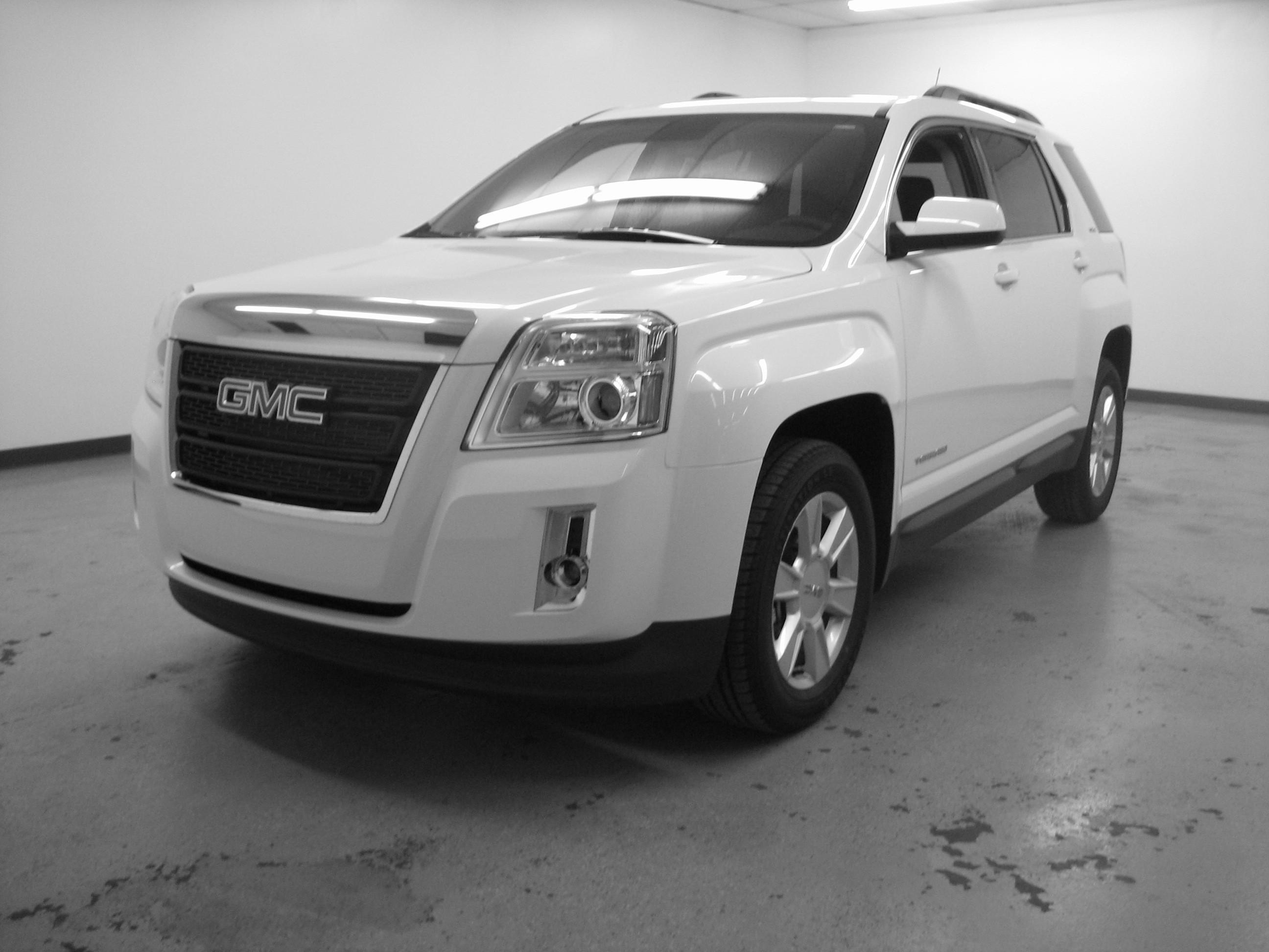car: (122, 81, 1138, 714)
